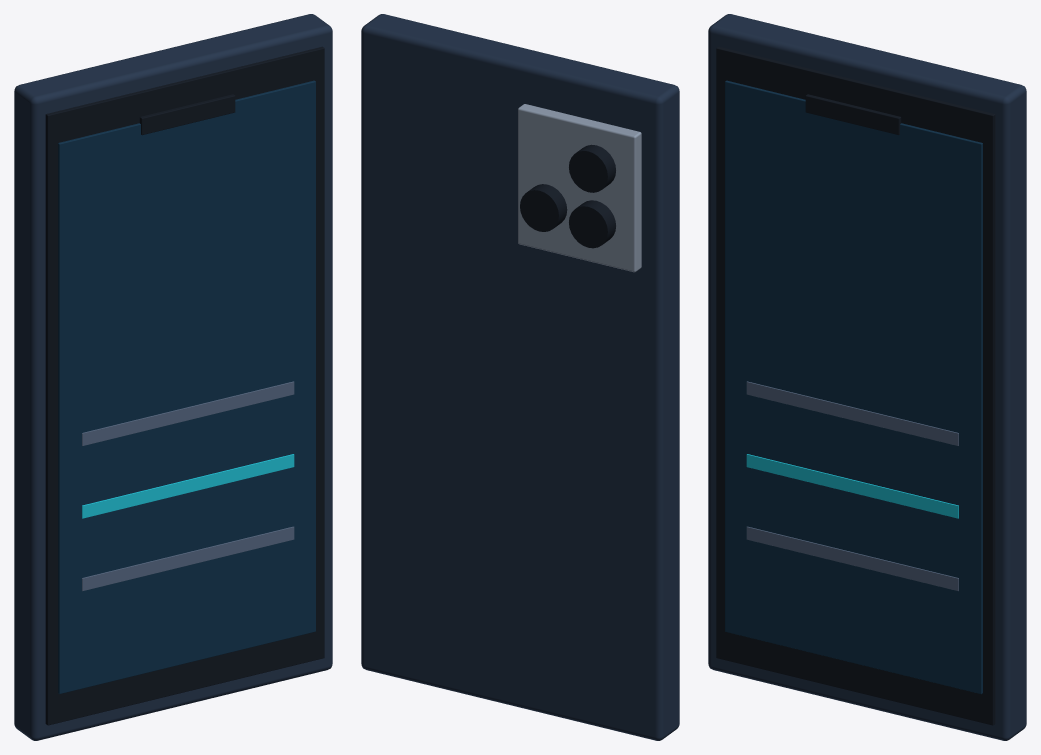
File: phone.glb
3 renders of one model, left to right at view 1: azimuth 30°, elevation 25°; view 2: azimuth 150°, elevation 25°; view 3: azimuth 330°, elevation 25°, orthographic.
Parts seen in each view (by area): view 1: SpinShop illustrative phone; view 2: SpinShop illustrative phone; view 3: SpinShop illustrative phone.
Part boxes in pixels (box(x1,y1,x2,y2)): SpinShop illustrative phone: box(14, 14, 332, 740); SpinShop illustrative phone: box(361, 14, 679, 740); SpinShop illustrative phone: box(708, 14, 1026, 740).
Size of the model in its own units: 0.074 by 0.151 by 0.0175.
